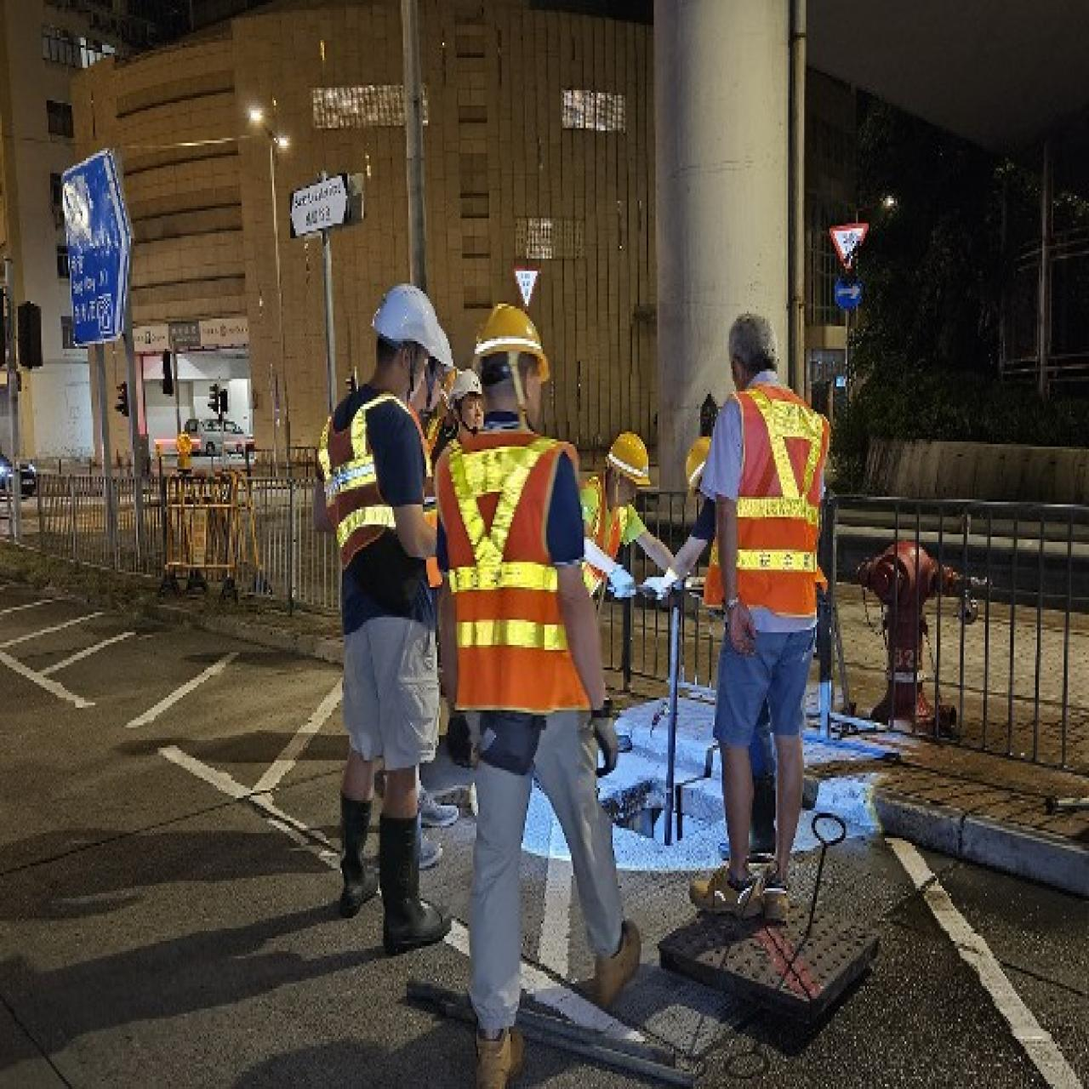Person: (418, 296, 638, 1089), (312, 280, 463, 980), (704, 300, 829, 914), (569, 422, 678, 613), (438, 361, 485, 704)
Safety_Vest: (433, 432, 579, 718), (716, 381, 816, 629), (316, 394, 423, 560), (577, 476, 641, 590)
